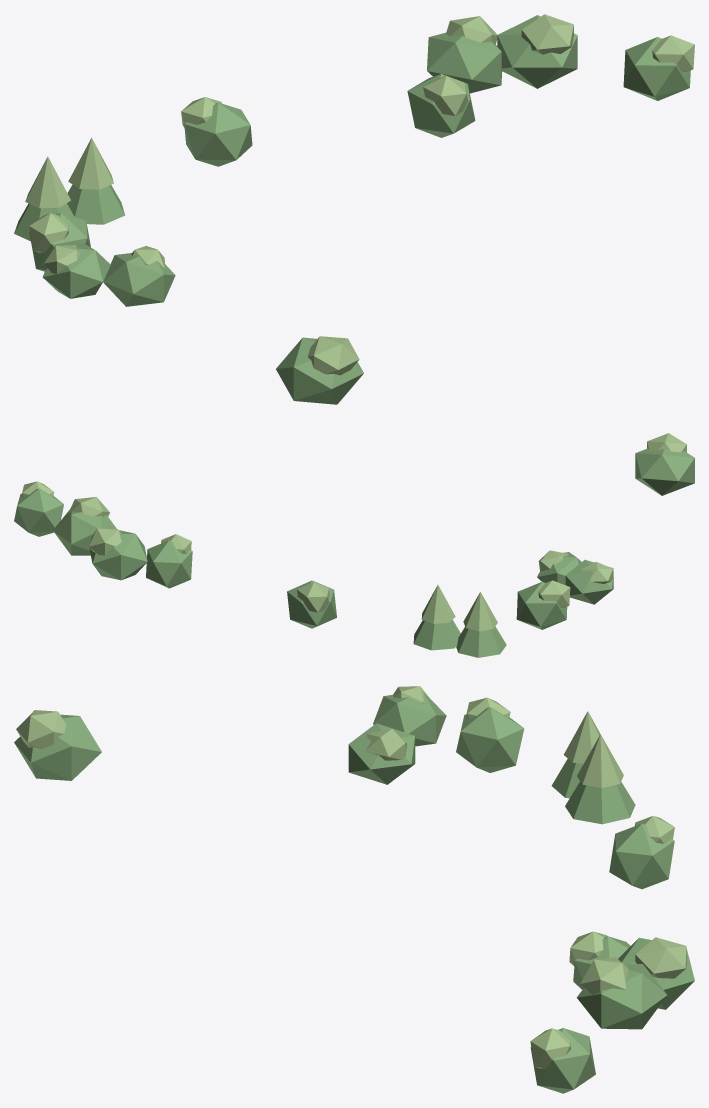
Rendered from crystal_spring_gate_wind_canopies.fbx.
3 renders of one model, top to bottom at view 1: azimuth 30°, elevation 25°; view 2: azimuth 150°, elevation 25°; view 3: azimuth 270°, elevation 25°, orthographic. The views are drawn at different scales.
Visible parts, largest first — view 1: chunk_crystal_spring_gate__tree_canopy_17, chunk_crystal_spring_gate__tree_canopy_14, chunk_crystal_spring_gate__tree_canopy_19, chunk_crystal_spring_gate__tree_canopy_09, chunk_crystal_spring_gate__tree_canopy_05, chunk_crystal_spring_gate__tree_canopy_21, chunk_crystal_spring_gate__tree_canopy_02, chunk_crystal_spring_gate__tree_canopy_16, chunk_crystal_spring_gate__tree_canopy_12, chunk_crystal_spring_gate__tree_canopy_20, chunk_crystal_spring_gate__tree_canopy_10, chunk_crystal_spring_gate__tree_canopy_11 (+9 smaller); view 2: chunk_crystal_spring_gate__tree_canopy_09, chunk_crystal_spring_gate__tree_canopy_17, chunk_crystal_spring_gate__tree_canopy_21, chunk_crystal_spring_gate__tree_canopy_16, chunk_crystal_spring_gate__tree_canopy_19, chunk_crystal_spring_gate__tree_canopy_04, chunk_crystal_spring_gate__tree_canopy_02, chunk_crystal_spring_gate__tree_canopy_06, chunk_crystal_spring_gate__tree_canopy_14, chunk_crystal_spring_gate__tree_canopy_12, chunk_crystal_spring_gate__tree_canopy_07, chunk_crystal_spring_gate__tree_canopy_11 (+7 smaller); view 3: chunk_crystal_spring_gate__tree_canopy_19, chunk_crystal_spring_gate__tree_canopy_04, chunk_crystal_spring_gate__tree_canopy_09, chunk_crystal_spring_gate__tree_canopy_14, chunk_crystal_spring_gate__tree_canopy_02, chunk_crystal_spring_gate__tree_canopy_21, chunk_crystal_spring_gate__tree_canopy_12, chunk_crystal_spring_gate__tree_canopy_05, chunk_crystal_spring_gate__tree_canopy_18, chunk_crystal_spring_gate__tree_canopy_11, chunk_crystal_spring_gate__tree_canopy_10, chunk_crystal_spring_gate__tree_canopy_20 (+8 smaller).
Part boxes in pixels (box(x1,y1,x2,y2)): chunk_crystal_spring_gate__tree_canopy_17: box(427, 32, 502, 93); chunk_crystal_spring_gate__tree_canopy_14: box(184, 102, 252, 166); chunk_crystal_spring_gate__tree_canopy_19: box(497, 15, 577, 88); chunk_crystal_spring_gate__tree_canopy_09: box(276, 337, 363, 404); chunk_crystal_spring_gate__tree_canopy_05: box(103, 253, 175, 306); chunk_crystal_spring_gate__tree_canopy_21: box(623, 37, 690, 100); chunk_crystal_spring_gate__tree_canopy_02: box(42, 243, 110, 298); chunk_crystal_spring_gate__tree_canopy_16: box(407, 74, 475, 137); chunk_crystal_spring_gate__tree_canopy_12: box(67, 184, 125, 224); chunk_crystal_spring_gate__tree_canopy_20: box(521, 14, 573, 54); chunk_crystal_spring_gate__tree_canopy_10: box(307, 336, 359, 375); chunk_crystal_spring_gate__tree_canopy_11: box(68, 137, 113, 189); chunk_crystal_spring_gate__tree_canopy_09: box(635, 448, 694, 495); chunk_crystal_spring_gate__tree_canopy_17: box(89, 530, 147, 580); chunk_crystal_spring_gate__tree_canopy_21: box(14, 488, 63, 536); chunk_crystal_spring_gate__tree_canopy_16: box(146, 540, 192, 588); chunk_crystal_spring_gate__tree_canopy_19: box(53, 510, 116, 555); chunk_crystal_spring_gate__tree_canopy_04: box(516, 581, 567, 629); chunk_crystal_spring_gate__tree_canopy_02: box(565, 559, 613, 604); chunk_crystal_spring_gate__tree_canopy_06: box(456, 626, 506, 657); chunk_crystal_spring_gate__tree_canopy_14: box(287, 580, 336, 628); chunk_crystal_spring_gate__tree_canopy_12: box(413, 619, 460, 650); chunk_crystal_spring_gate__tree_canopy_07: box(463, 592, 497, 631); chunk_crystal_spring_gate__tree_canopy_11: box(421, 585, 455, 623); chunk_crystal_spring_gate__tree_canopy_19: box(576, 963, 667, 1029); chunk_crystal_spring_gate__tree_canopy_04: box(456, 707, 524, 772); chunk_crystal_spring_gate__tree_canopy_09: box(14, 714, 101, 780); chunk_crystal_spring_gate__tree_canopy_14: box(609, 823, 674, 889); chunk_crystal_spring_gate__tree_canopy_02: box(373, 692, 446, 746); chunk_crystal_spring_gate__tree_canopy_21: box(530, 1028, 595, 1093); chunk_crystal_spring_gate__tree_canopy_12: box(565, 781, 635, 824); chunk_crystal_spring_gate__tree_canopy_05: box(348, 723, 415, 784); chunk_crystal_spring_gate__tree_canopy_18: box(635, 937, 686, 978); chunk_crystal_spring_gate__tree_canopy_11: box(577, 734, 623, 787); chunk_crystal_spring_gate__tree_canopy_10: box(16, 710, 65, 748); chunk_crystal_spring_gate__tree_canopy_20: box(580, 957, 628, 995).
Bounding box in the file's own units: 210 × 26.12 × 169.
